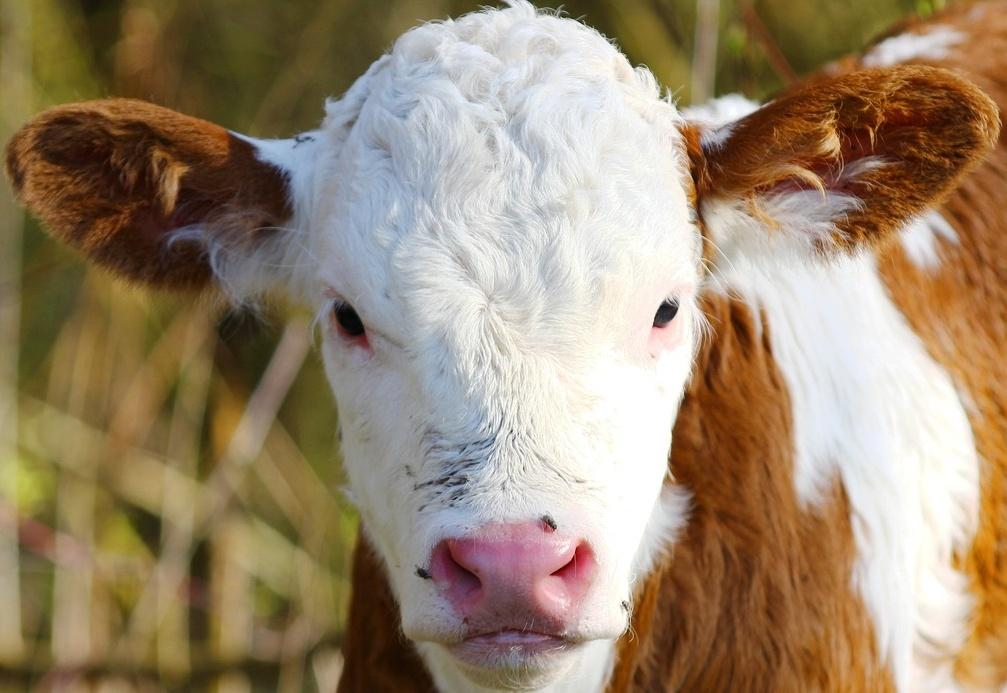muzzles: (386, 512, 639, 668)
